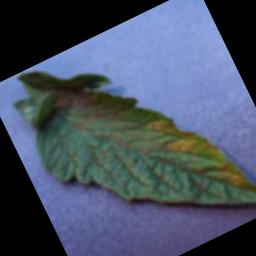Leaf_Mold: (148, 95, 252, 215)
